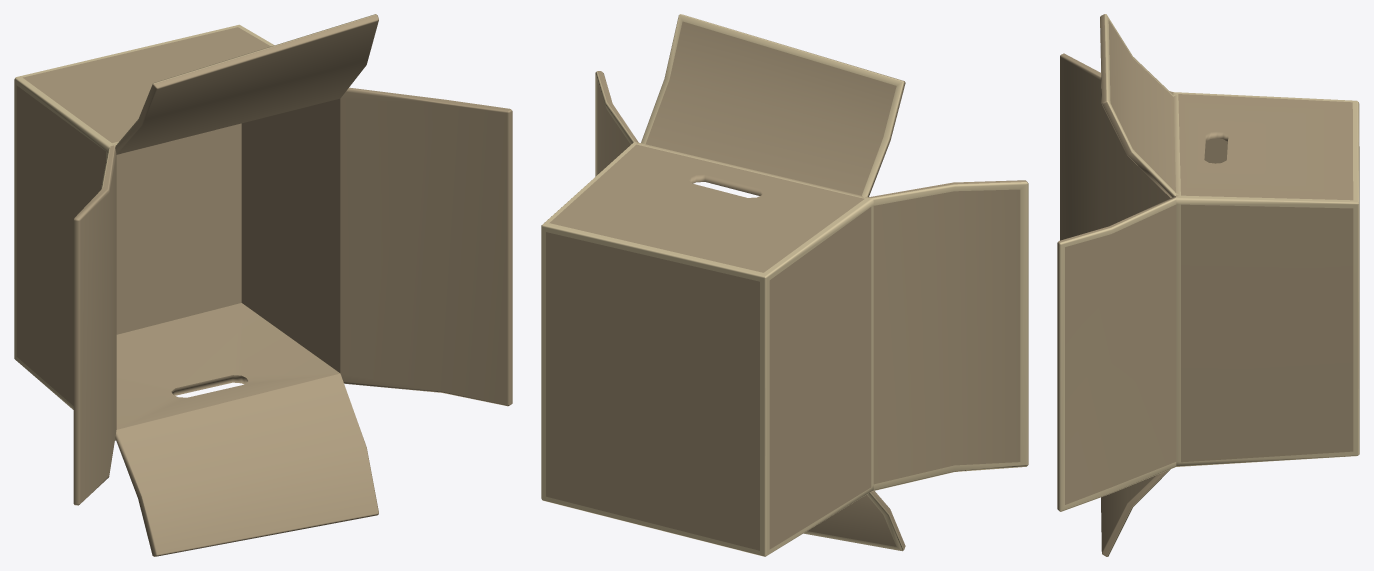
Rendered from BoxF.fbx.
3 views of the same model, side by side, from view 1: azimuth 30°, elevation 25°; view 2: azimuth 150°, elevation 25°; view 3: azimuth 270°, elevation 25° (orthographic). The views are drawn at different scales.
Parts seen in each view (by area): view 1: BoxF; view 2: BoxF; view 3: BoxF.
Part boxes in pixels (x1=…): BoxF: x1=14, y1=14, x2=512, y2=556; BoxF: x1=541, y1=14, x2=1028, y2=556; BoxF: x1=1057, y1=14, x2=1359, y2=556.
Size of the model in its own units: 564 by 617 by 371.
